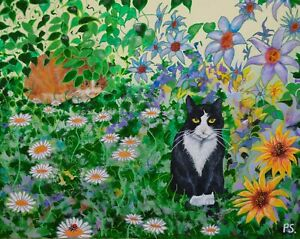cat: (170, 94, 226, 206)
